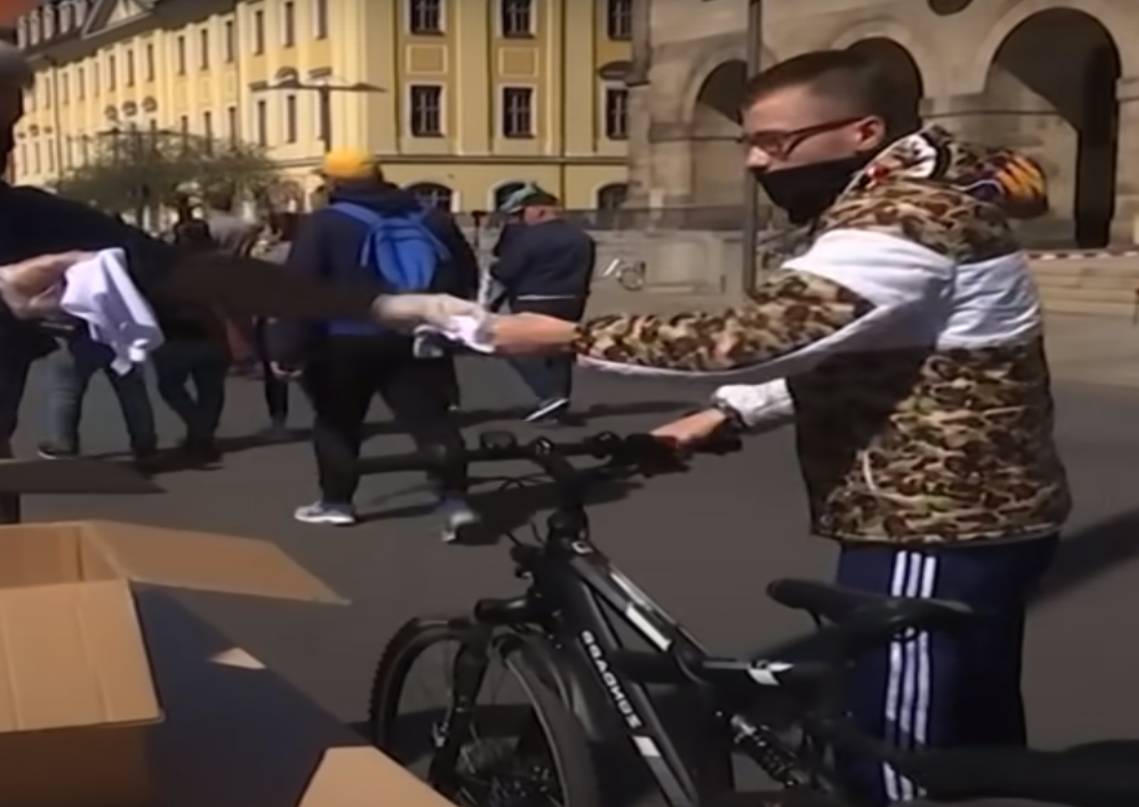mask_weared_incorrect: (729, 47, 917, 222)
